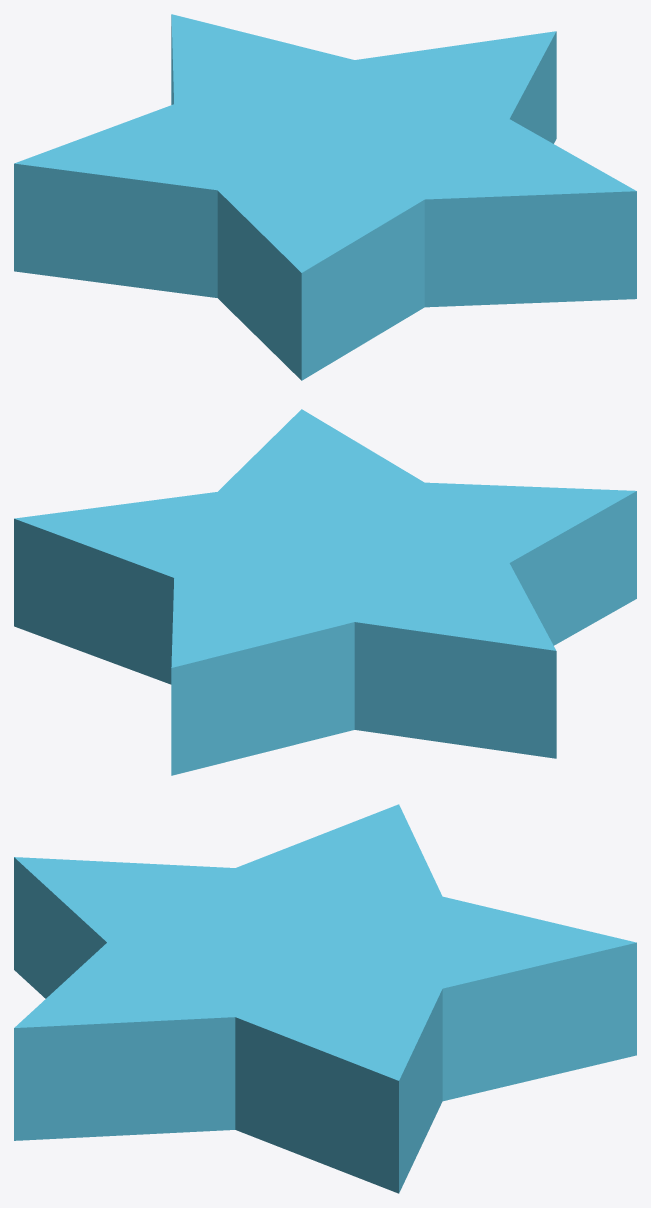
The model's file is star_light_blue.glb.
3 views of the same model, one above another, from view 1: azimuth 30°, elevation 25°; view 2: azimuth 150°, elevation 25°; view 3: azimuth 270°, elevation 25° (orthographic). The views are drawn at different scales.
Visible parts, largest first — view 1: 円; view 2: 円; view 3: 円.
Part boxes in pixels (bbox=[...]): 円: bbox=[14, 14, 636, 380]; 円: bbox=[14, 409, 636, 775]; 円: bbox=[14, 804, 636, 1193].
Bounding box in the file's own units: 1.9 × 0.3614 × 1.81.
